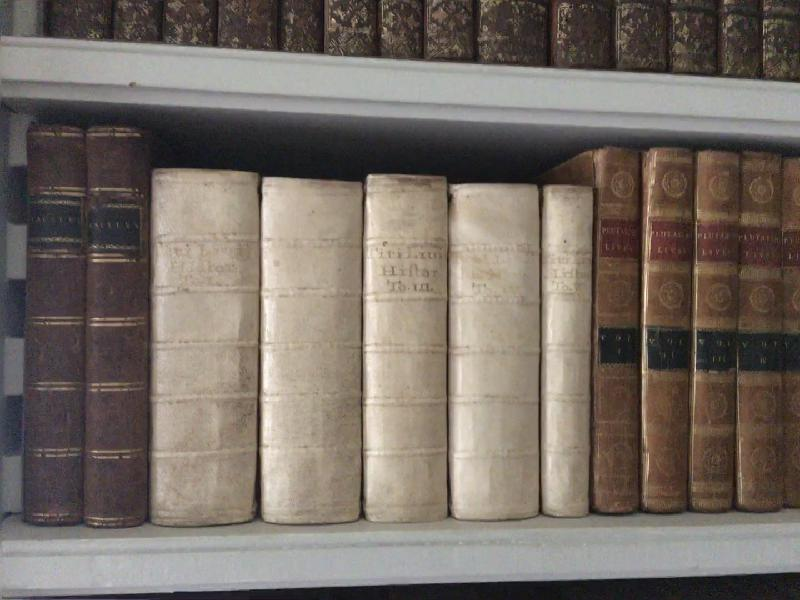Kk4-1_2: (19, 115, 152, 535)
Kk4-3_7: (147, 158, 597, 534)
Kk4-8_13: (586, 138, 800, 524)
